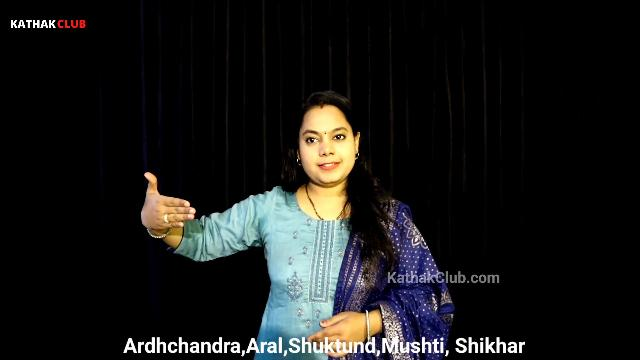ardhachandra: (119, 161, 221, 259)
